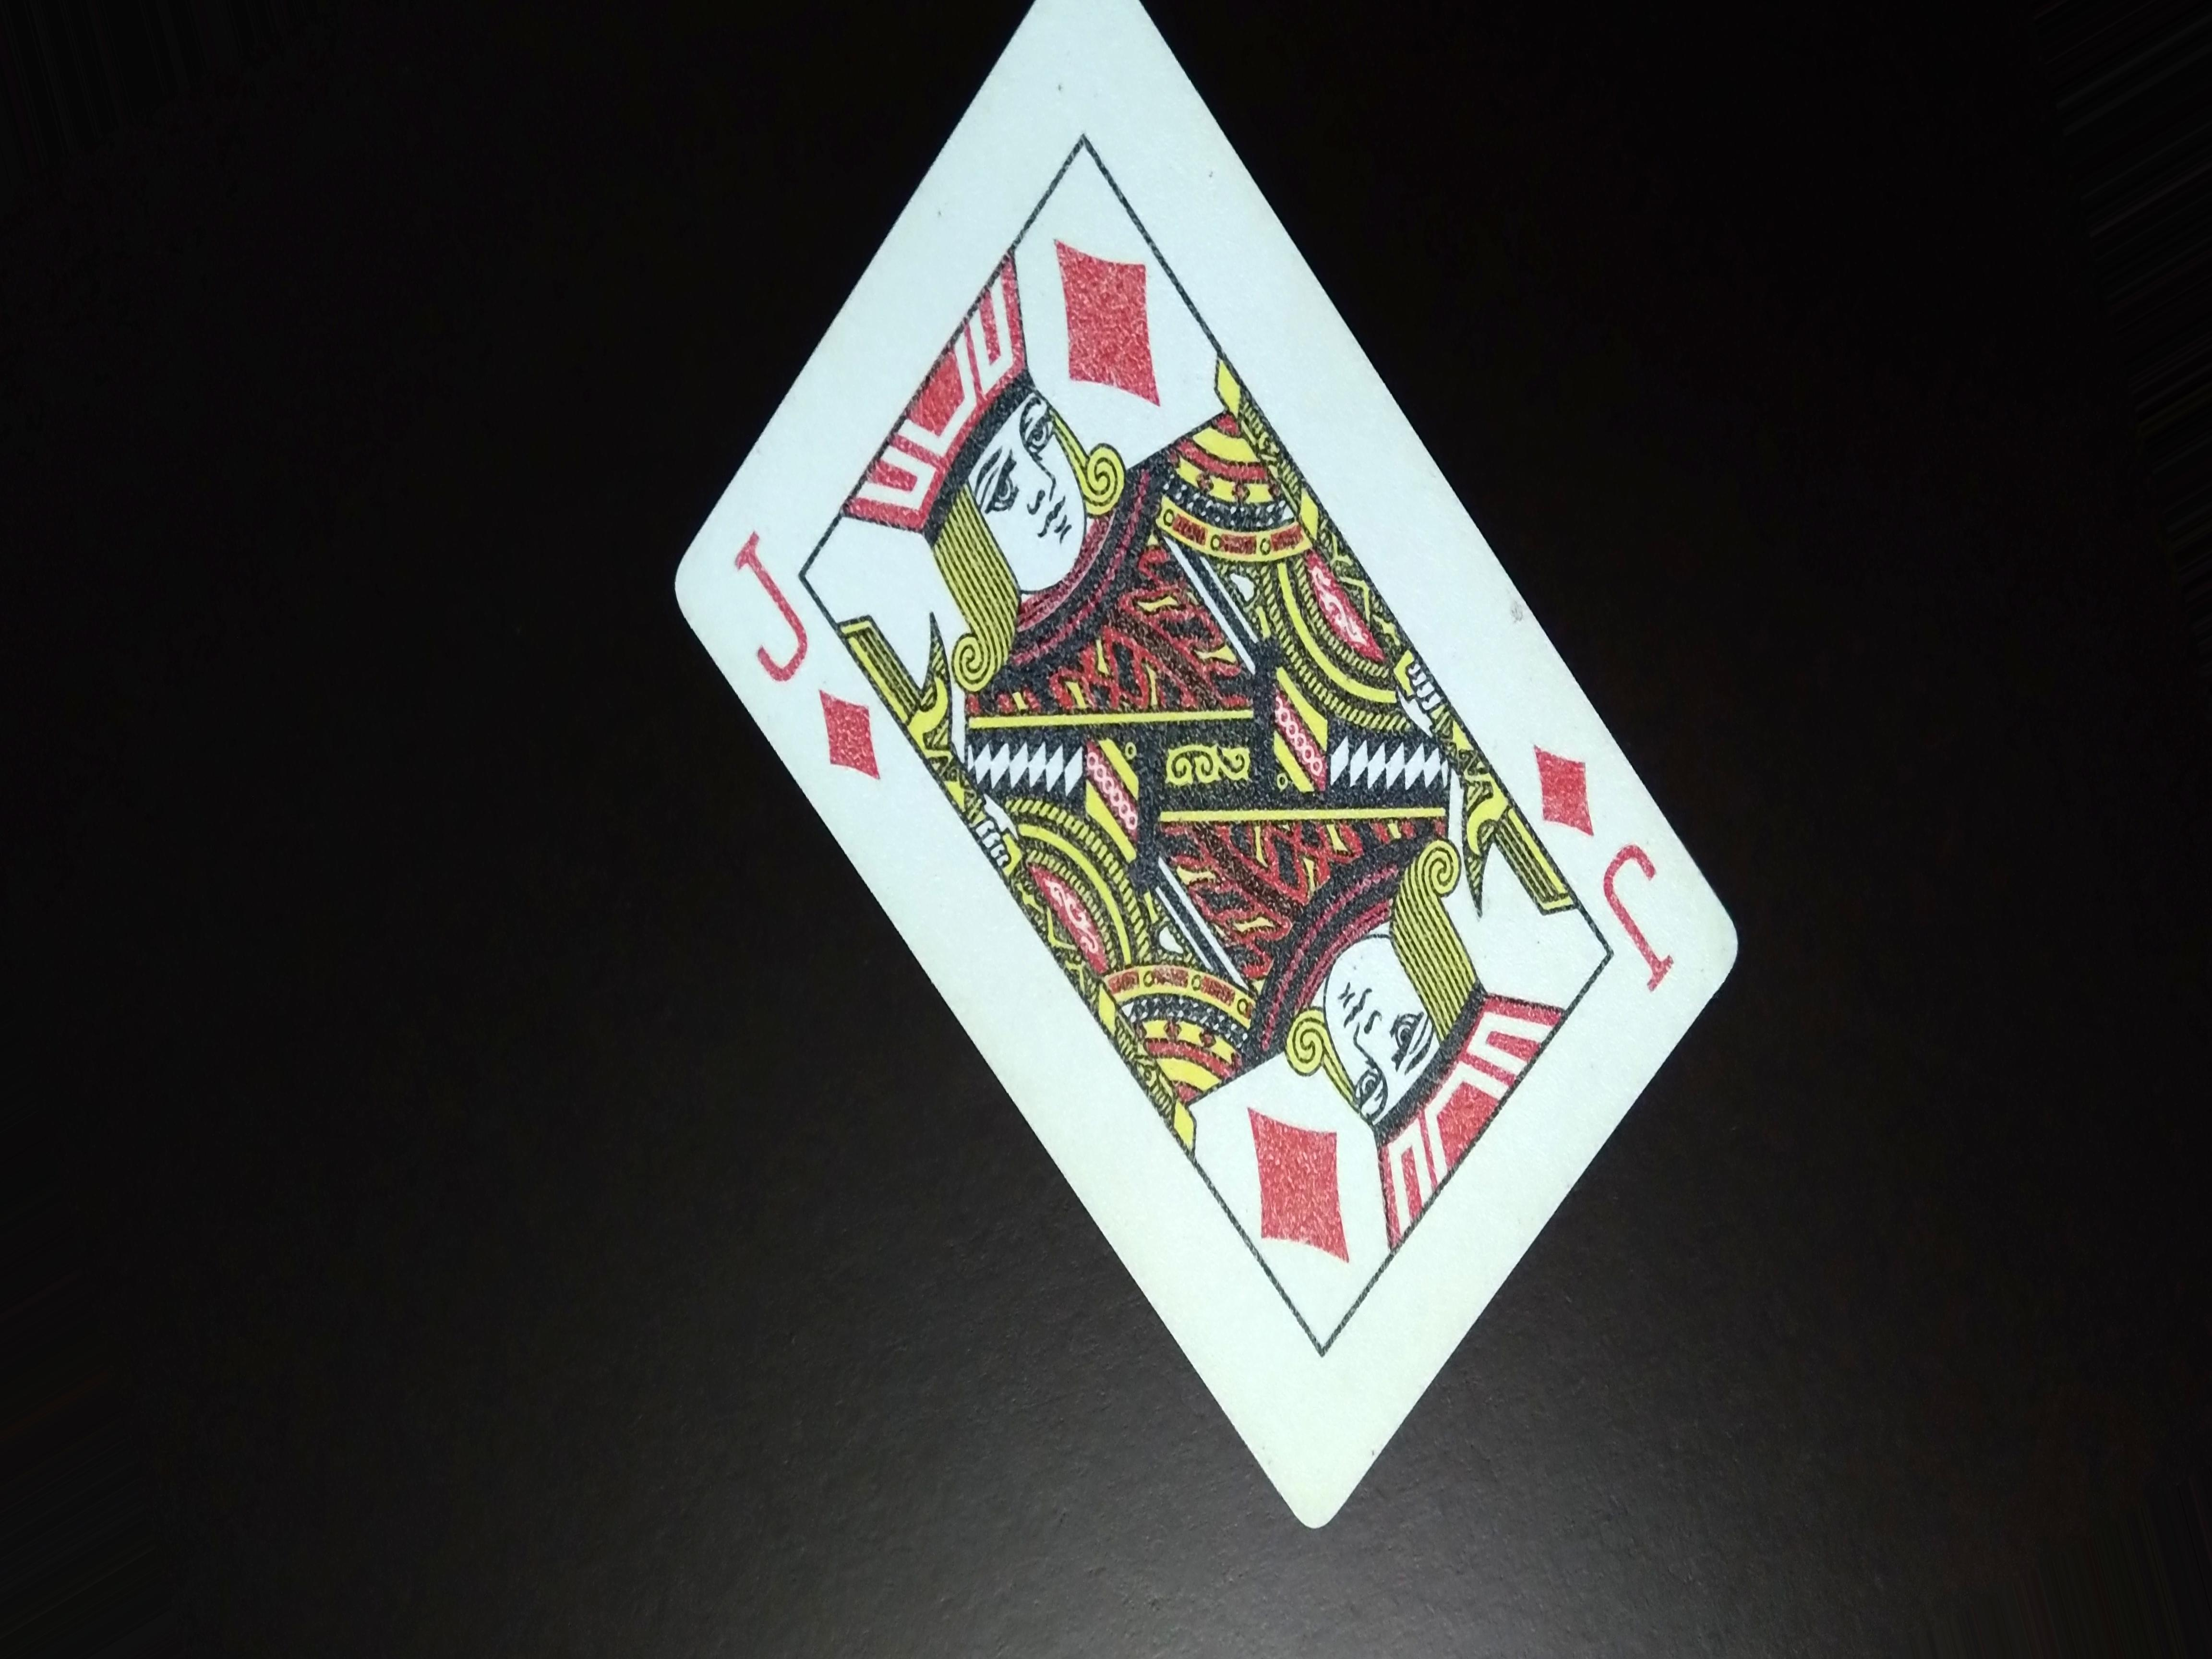JD: (718, 530, 880, 800)
